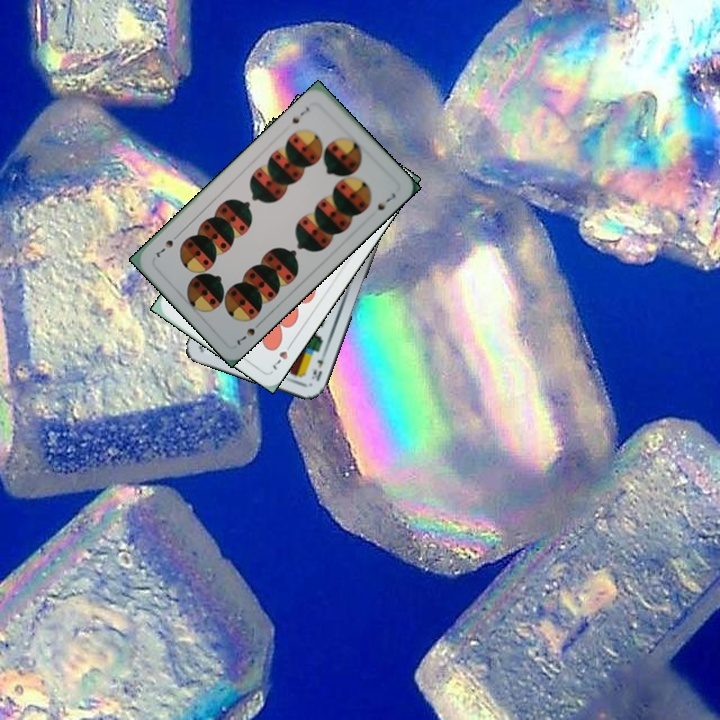EK: (307, 348, 329, 384)
H7: (267, 338, 296, 373)
S7: (233, 317, 265, 348), (288, 102, 312, 126)
